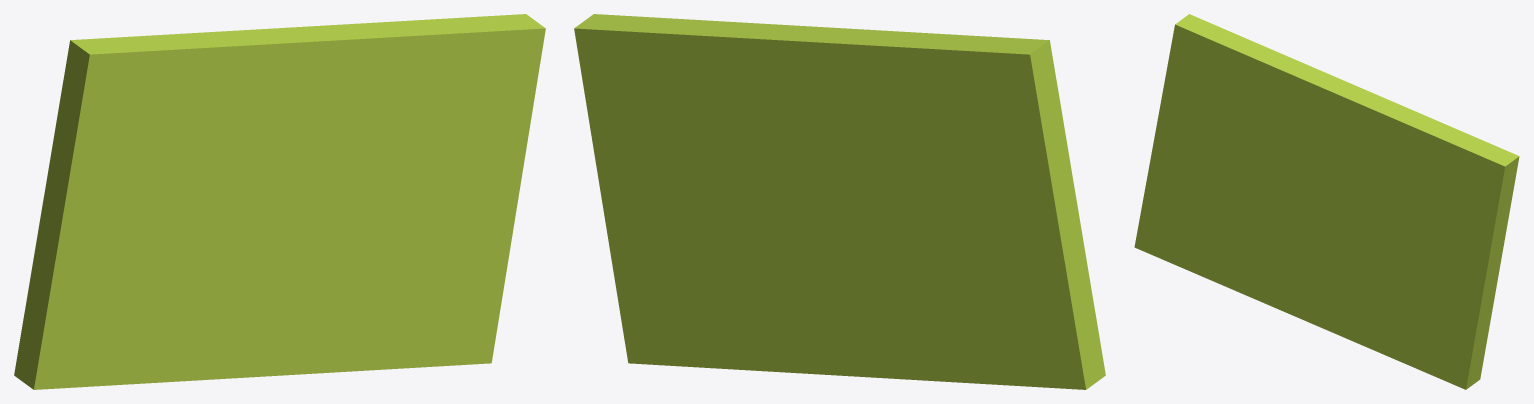
3 views of the same model, side by side, from view 1: azimuth 30°, elevation 25°; view 2: azimuth 150°, elevation 25°; view 3: azimuth 330°, elevation 25° (orthographic). The views are drawn at different scales.
Parts seen in each view (by area): view 1: osm-way27917482-F0; view 2: osm-way27917482-F0; view 3: osm-way27917482-F0.
Boxes of the visible parts, x1,y1,x2,y2 form: osm-way27917482-F0: (14,14,545,389); osm-way27917482-F0: (574,14,1105,389); osm-way27917482-F0: (1134,14,1519,389).
Size of the model in its own units: 2.24 by 1.7 by 0.15.
